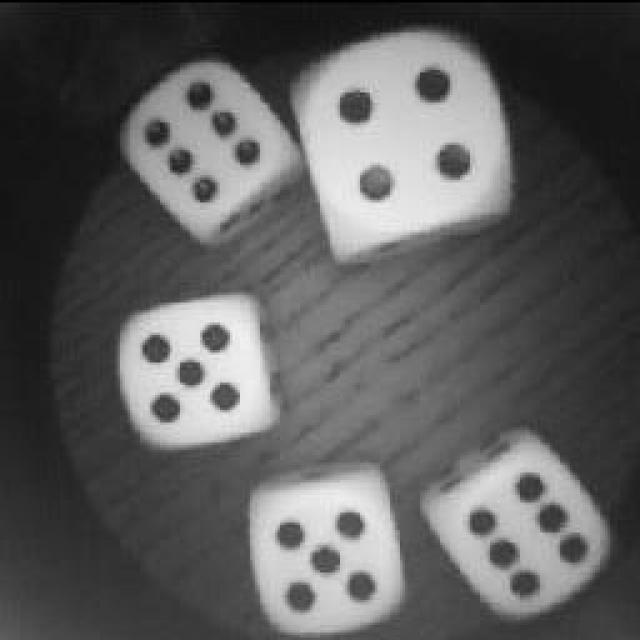dice_4: (288, 12, 522, 262)
dice_5: (108, 283, 280, 455), (243, 468, 405, 630)
dice_6: (430, 425, 620, 623), (115, 60, 300, 240)
